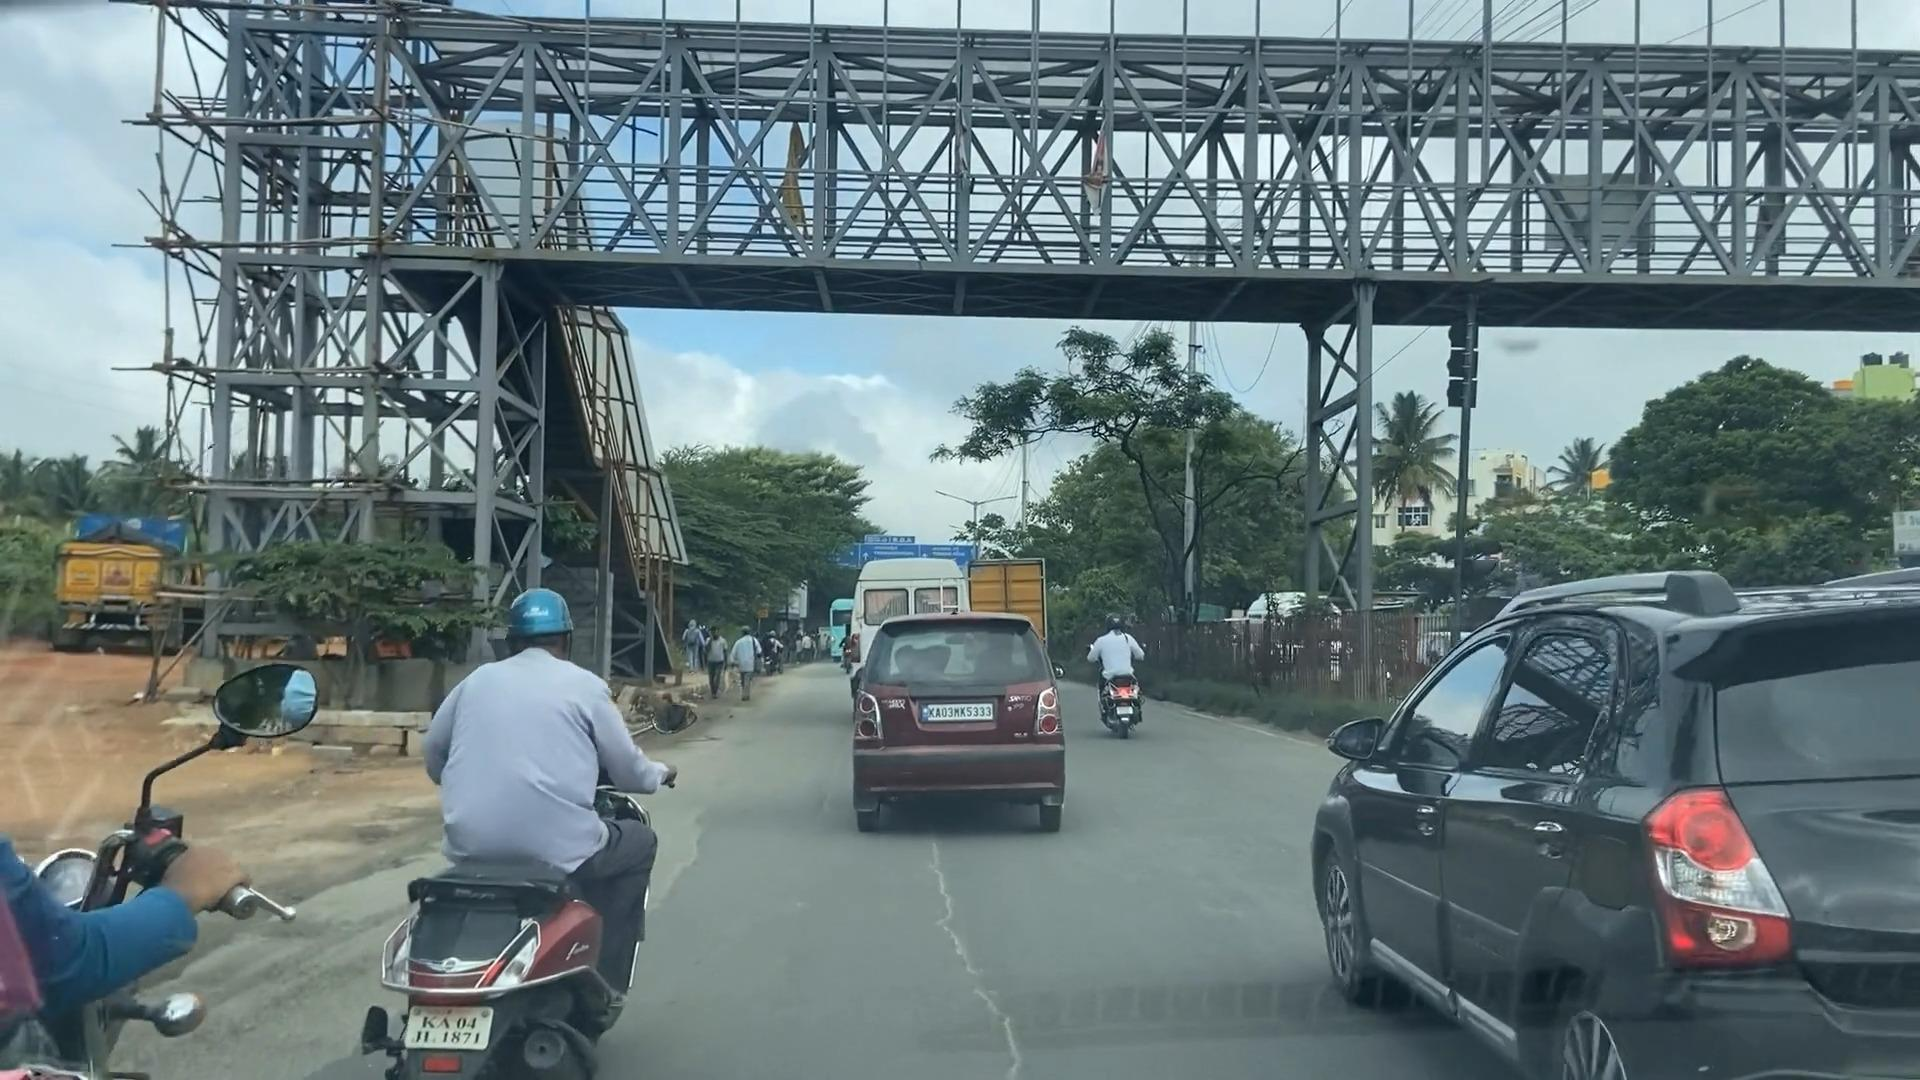LMV: (839, 618, 1065, 824), (1091, 615, 1150, 728)
RoadDamages: (894, 843, 1036, 1080), (659, 787, 720, 907)
